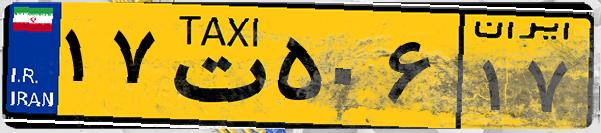0: (330, 28, 385, 110)
1: (57, 26, 110, 100), (475, 38, 525, 113)
5: (270, 28, 330, 110)
6: (385, 28, 445, 110)
7: (525, 38, 570, 115), (110, 28, 158, 98)
ت: (158, 12, 270, 120)
